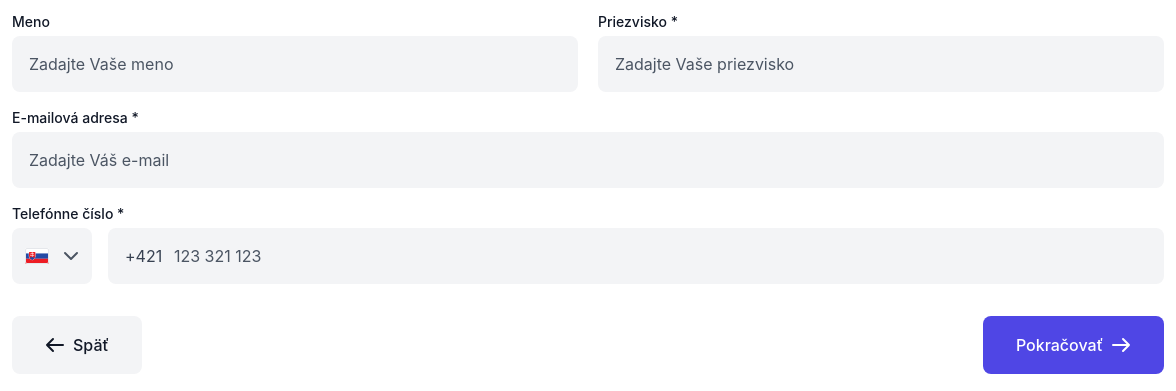
DetailsForm › preserves the caret while correcting a formatted national number
Step 1. Type "901234567" into the field labelled "Telefónne číslo" → [664, 256], box x1=166 y1=244 x2=1163 y2=268
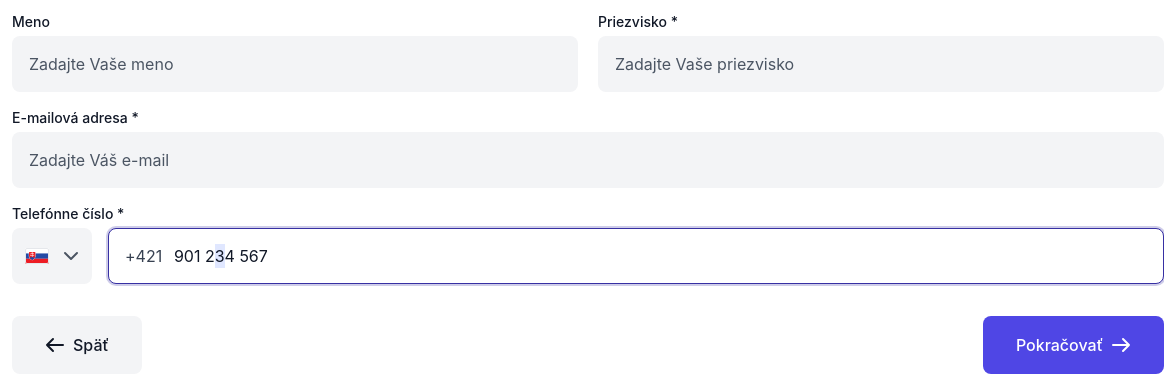
Step 2. Type keys "8"
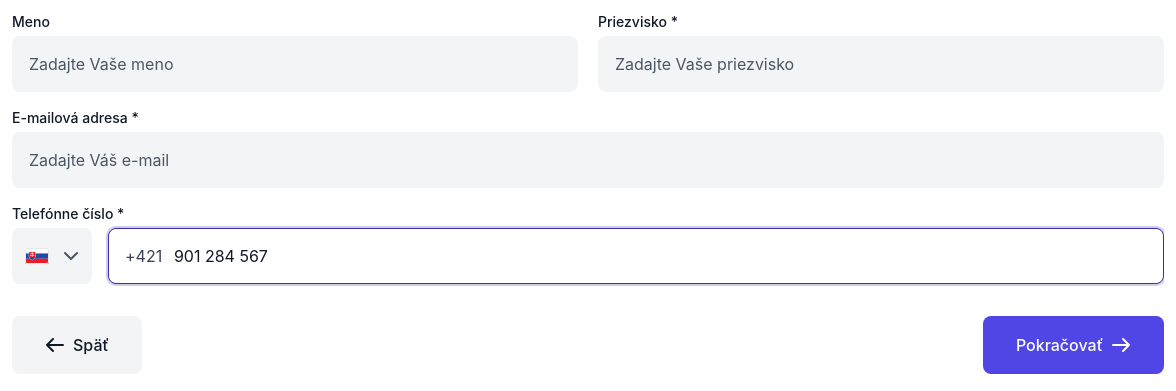
Now the field labelled "Telefónne číslo" holds "901 284 567", box x1=166 y1=244 x2=1163 y2=268
